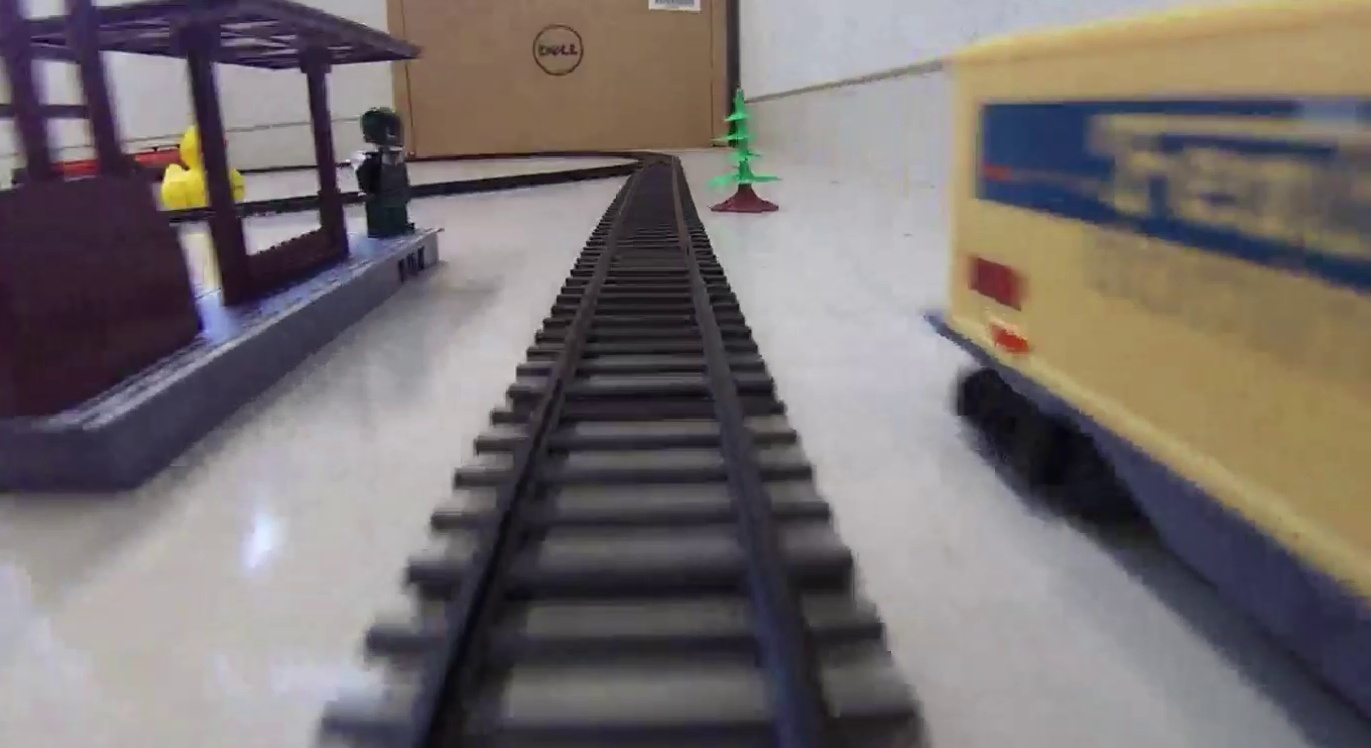people: (356, 108, 418, 236)
tree: (702, 89, 782, 217)
